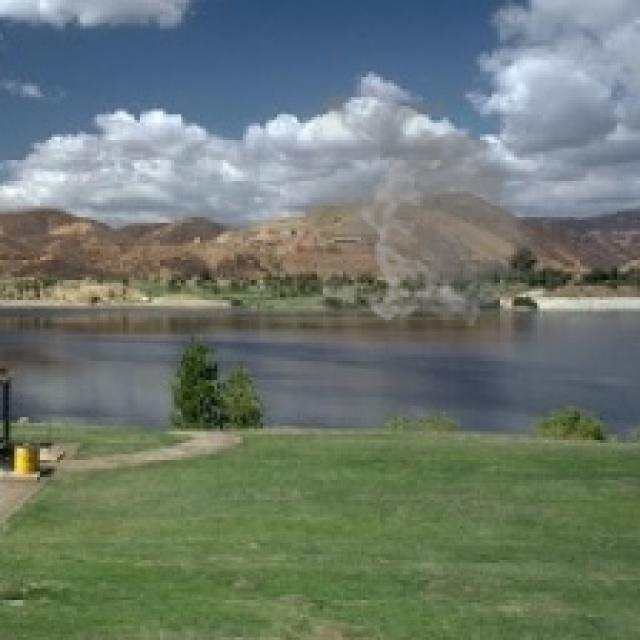Smoke: (288, 82, 548, 328)
